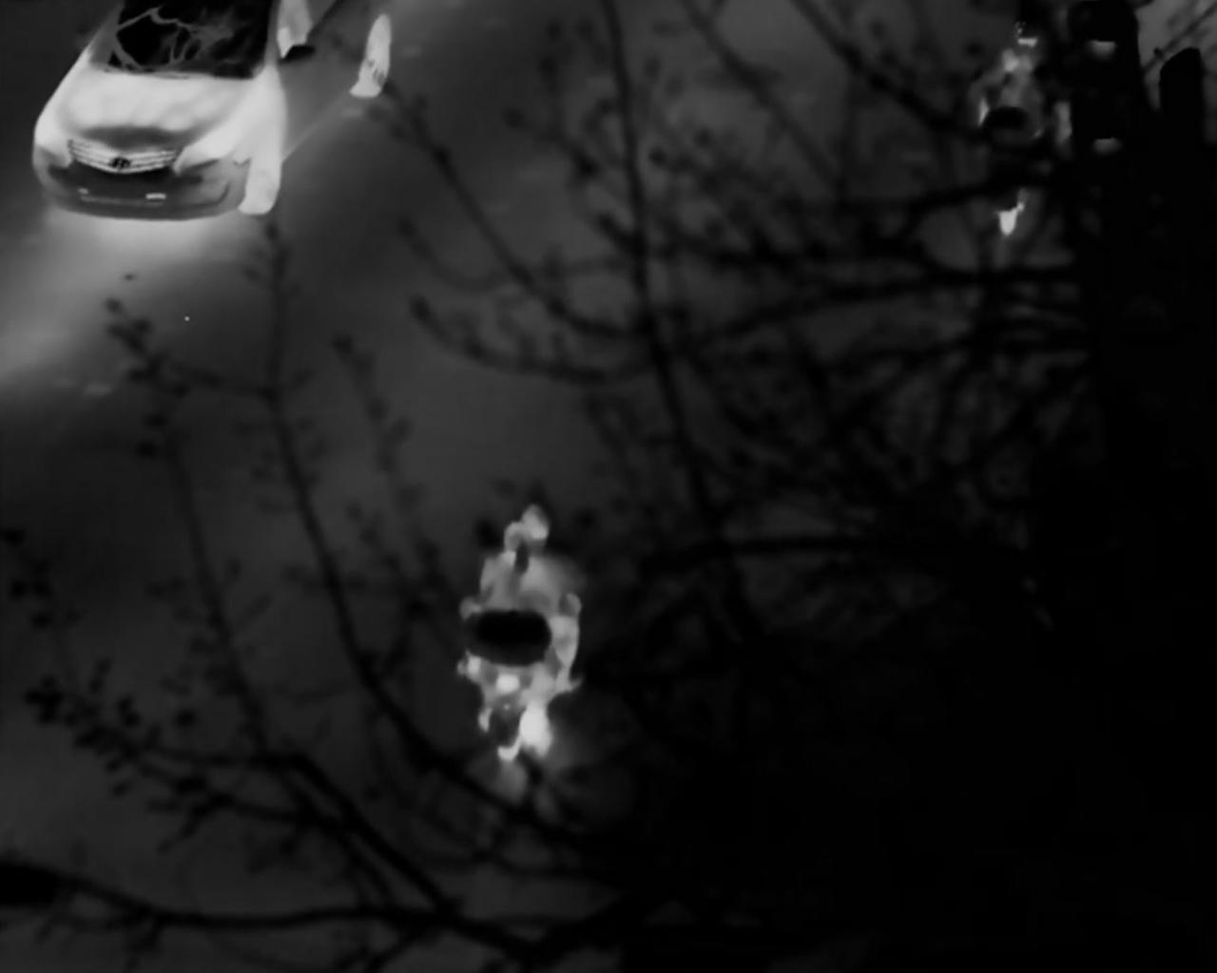person: (461, 509, 585, 755)
